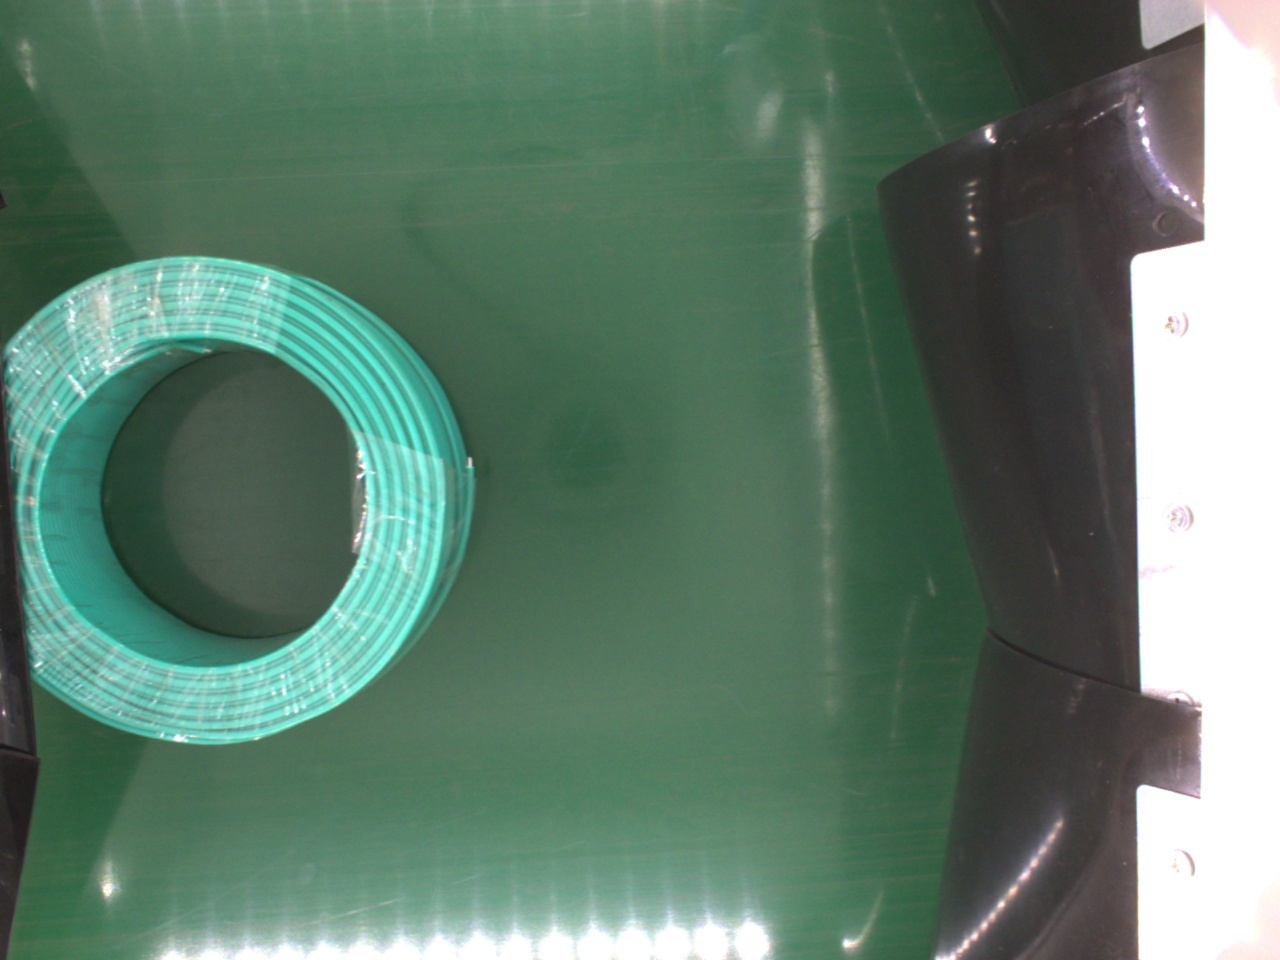green: (5, 252, 477, 749)
